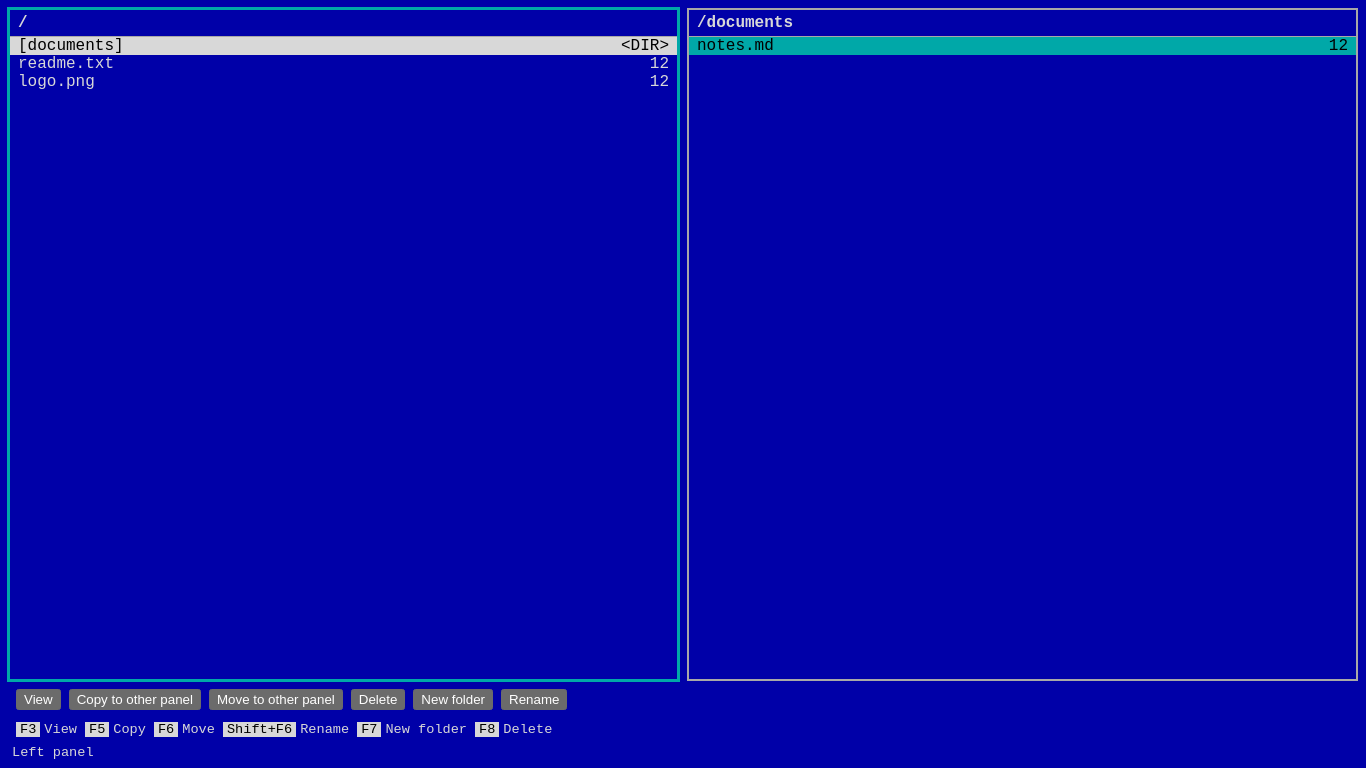
§REQ:TWO-PNL-NVGT-OOX-090 previewing the selected text file › §REQ:TWO-PNL-NVGT-OOX-090 the preview reads the ACTIVE panel selection
This screenshot has width=1366, height=768.
Click the option "notes.md 12".
click(735, 46)  # box [689,37,1356,55]
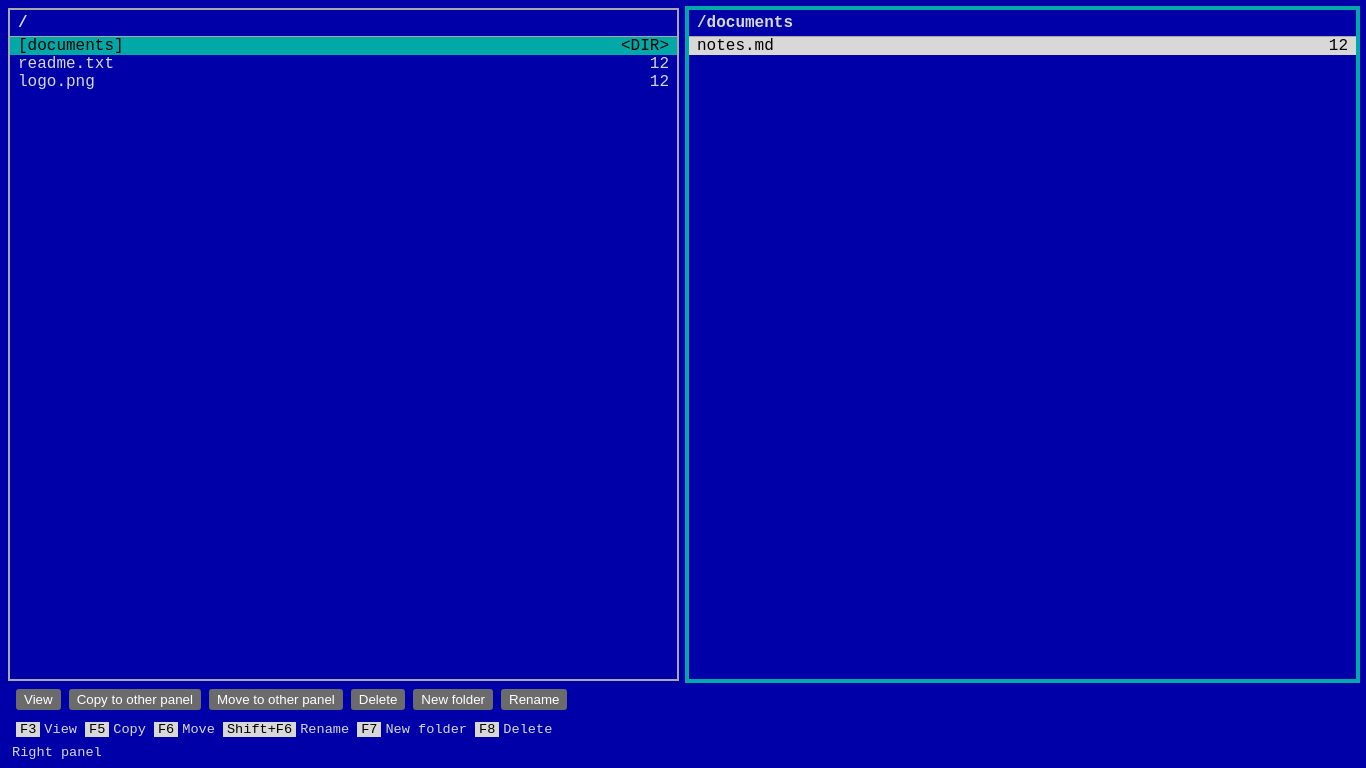
Click the button "View".
click(38, 700)  # box [16,689,61,710]
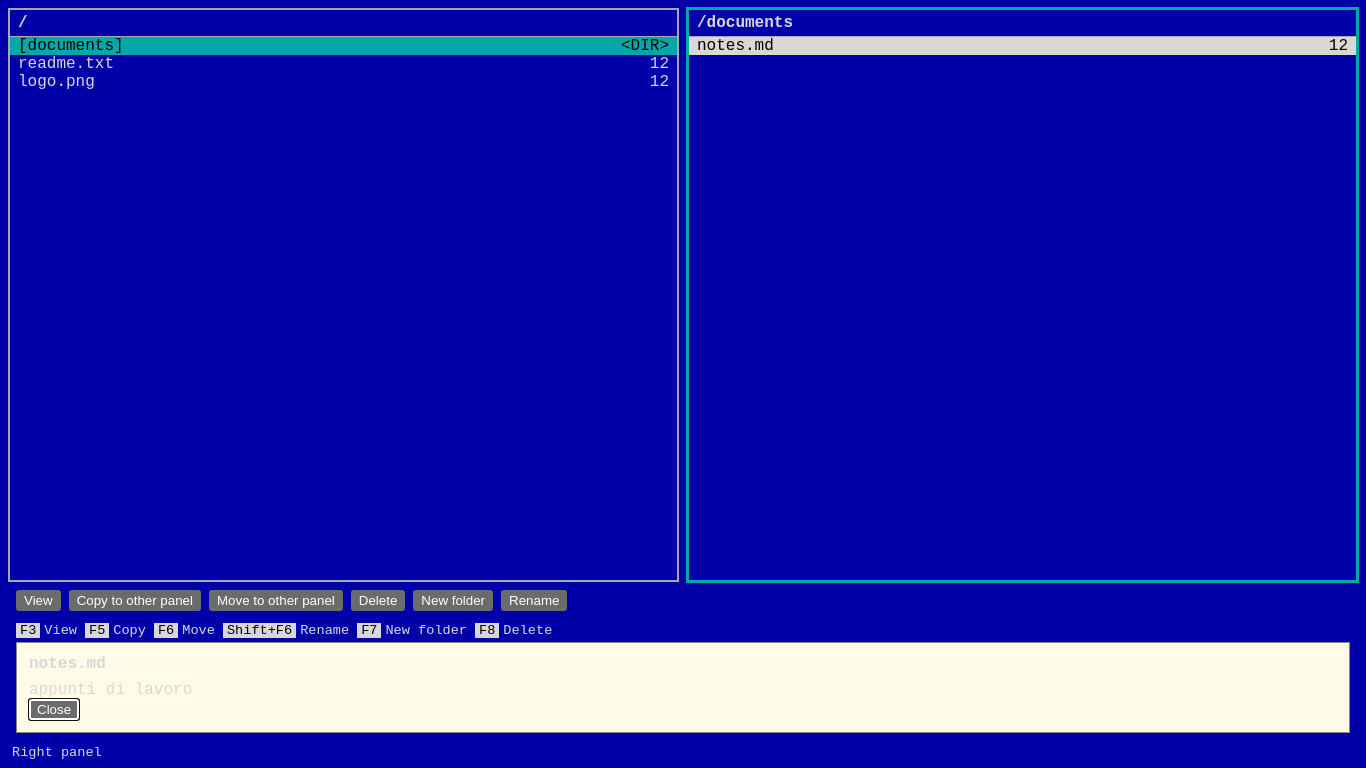
Result: the text "appunti di lavoro" is shown at [29,681,192,699]
